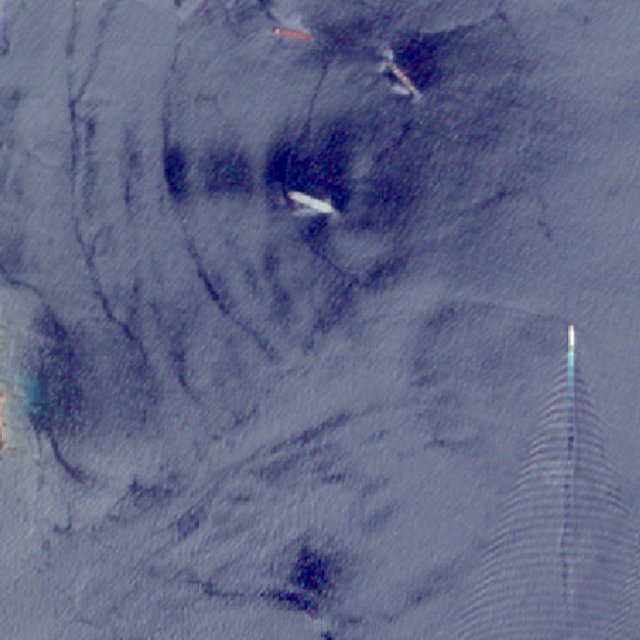wake: (512, 307, 625, 576)
